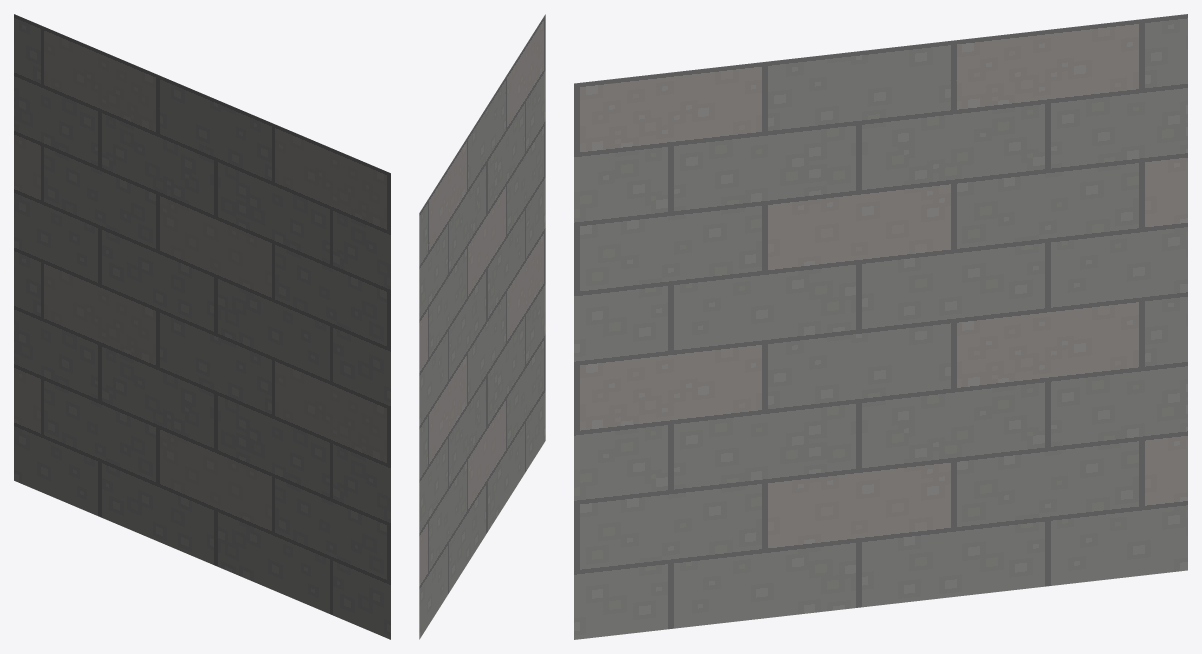
Rendered from kd_stage_135fe0_4_35_bounded.glb.
3 views of the same model, side by side, from view 1: azimuth 30°, elevation 25°; view 2: azimuth 150°, elevation 25°; view 3: azimuth 270°, elevation 25° (orthographic). The views are drawn at different scales.
Visible parts, largest first — view 1: kd_stage_135fe0_4_35_bounded; view 2: kd_stage_135fe0_4_35_bounded; view 3: kd_stage_135fe0_4_35_bounded.
Boxes of the visible parts, x1,y1,x2,y2 form: kd_stage_135fe0_4_35_bounded: (14, 14, 390, 639); kd_stage_135fe0_4_35_bounded: (419, 14, 545, 639); kd_stage_135fe0_4_35_bounded: (574, 14, 1187, 639).
Bounding box in the file's own units: 0.5359 × 2 × 2.
1 material, 1 textured.
